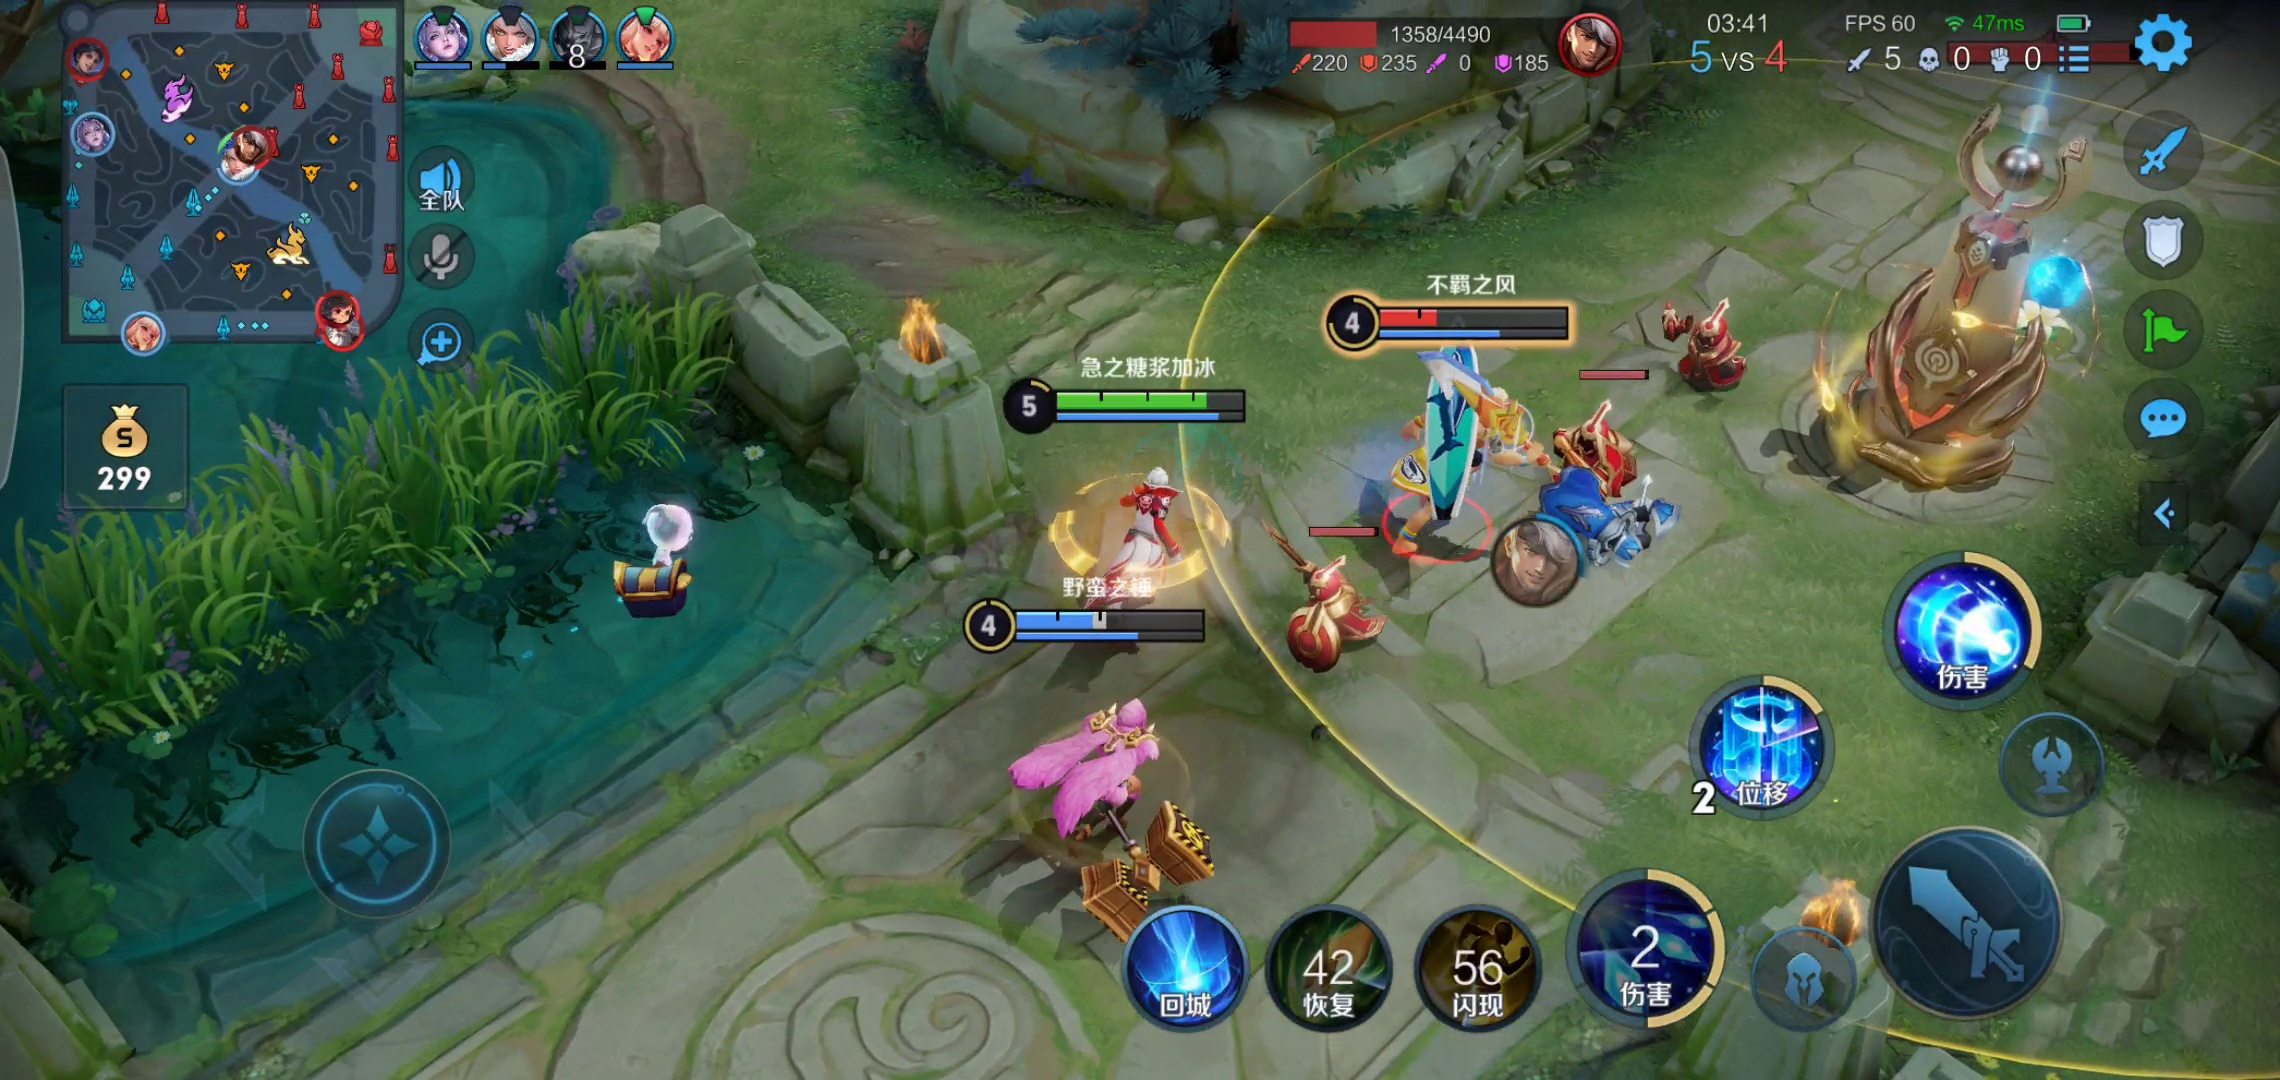grass: (12, 310, 734, 804)
hero: (1015, 683, 1214, 923), (1393, 347, 1525, 563), (1045, 472, 1224, 613)
soldier: (1255, 520, 1389, 677), (1562, 401, 1637, 504), (1666, 298, 1746, 390)
tower: (1855, 94, 2053, 504)
